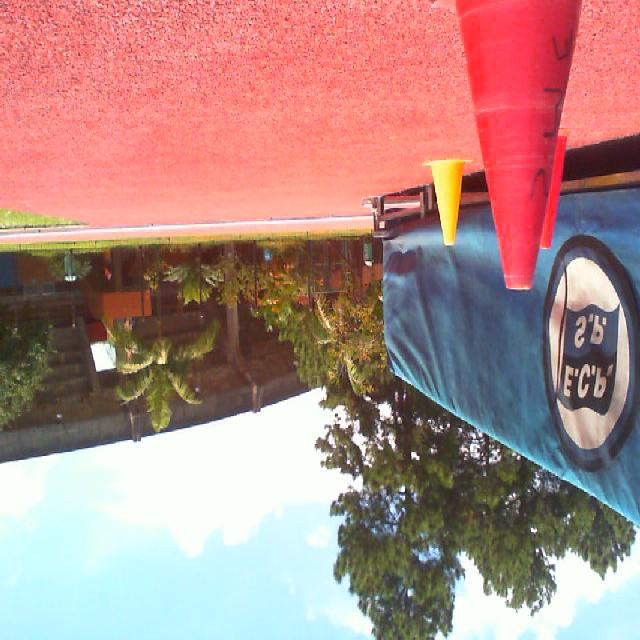cone: (432, 0, 584, 291), (422, 159, 473, 245), (539, 128, 574, 251)
